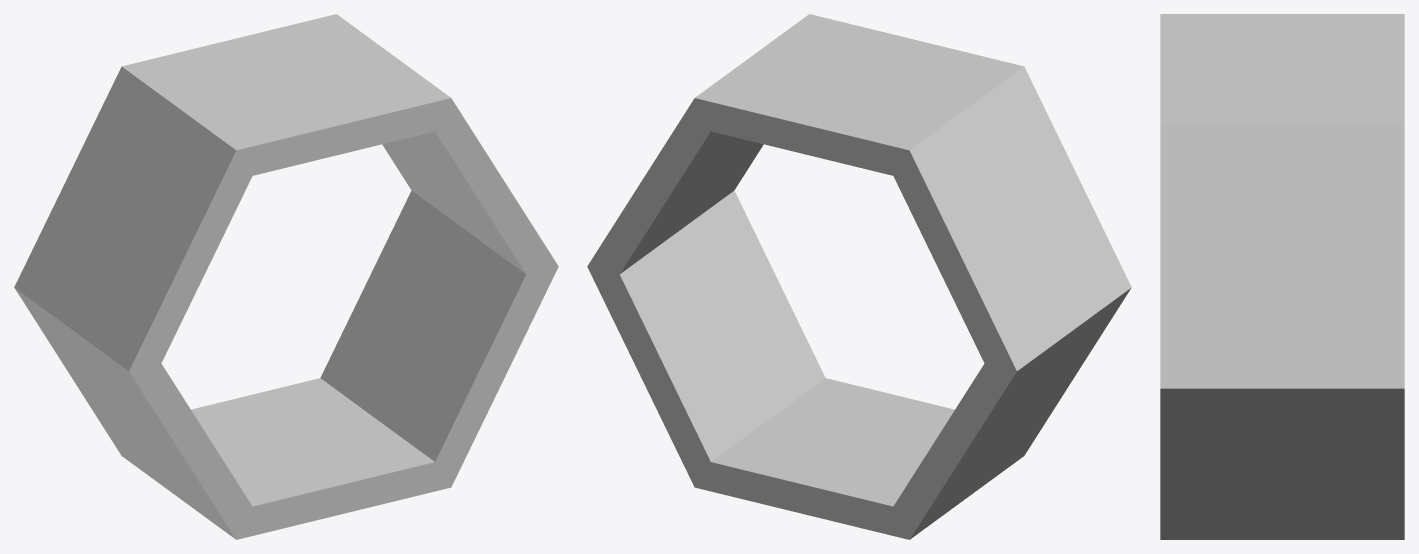
The model's file is Shelf_01.fbx.
3 renders of one model, left to right at view 1: azimuth 30°, elevation 25°; view 2: azimuth 150°, elevation 25°; view 3: azimuth 270°, elevation 25°, orthographic. The views are drawn at different scales.
Parts seen in each view (by area): view 1: Shelf_01; view 2: Shelf_01; view 3: Shelf_01.
Part boxes in pixels (x1,y1,x2,y2): Shelf_01: (14,14,558,539); Shelf_01: (587,14,1131,539); Shelf_01: (1160,14,1404,539).
Size of the model in its own units: 29.76 by 25.77 by 13.76.
